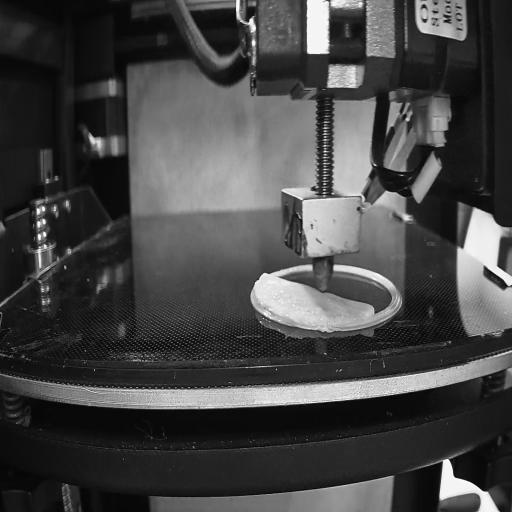over_extrusion: (251, 267, 268, 310)
